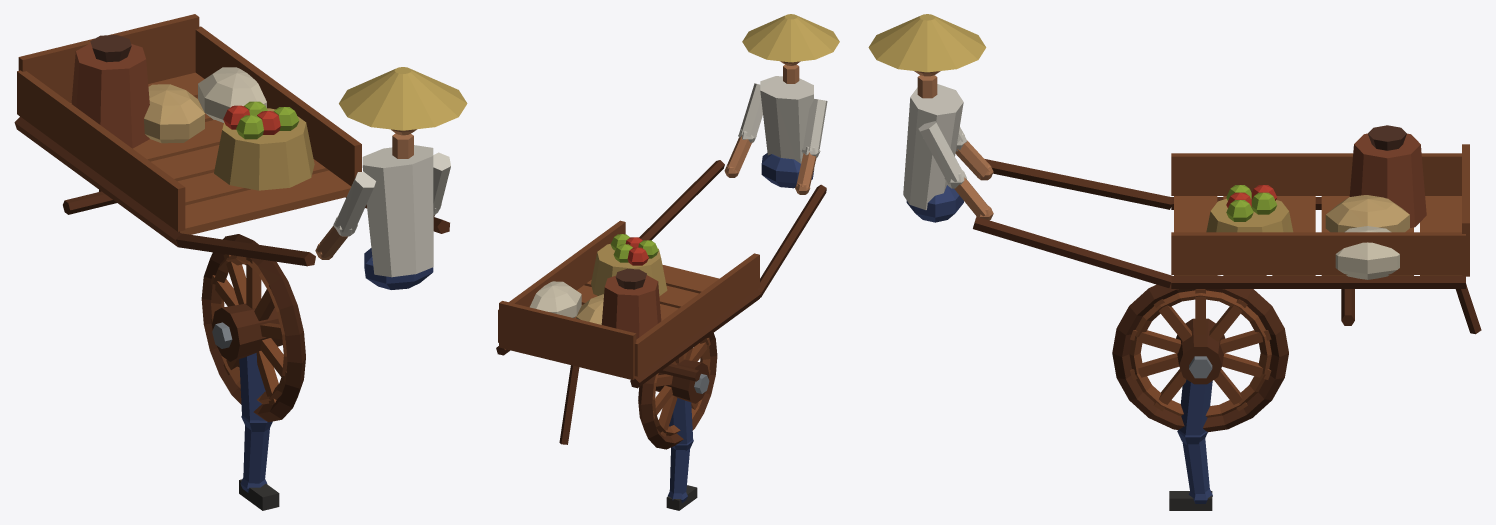
File: hand_cart.glb
3 renders of one model, left to right at view 1: azimuth 30°, elevation 25°; view 2: azimuth 150°, elevation 25°; view 3: azimuth 270°, elevation 25°, orthographic. The views are drawn at different scales.
Parts seen in each view (by area): view 1: body, wheel1, wheel0; view 2: body, wheel1, wheel0; view 3: body, wheel1, wheel0.
Part boxes in pixels (x1=…): body: x1=14, y1=14, x2=467, y2=289; wheel1: x1=201, y1=234, x2=305, y2=421; wheel0: x1=239, y1=353, x2=279, y2=510; body: x1=496, y1=14, x2=839, y2=444; wheel1: x1=638, y1=333, x2=717, y2=449; wheel0: x1=666, y1=397, x2=697, y2=510; body: x1=868, y1=14, x2=1481, y2=334; wheel1: x1=1112, y1=275, x2=1288, y2=432; wheel0: x1=1169, y1=379, x2=1212, y2=510.
Size of the model in its own units: 1.15 by 2.75 by 3.12.
